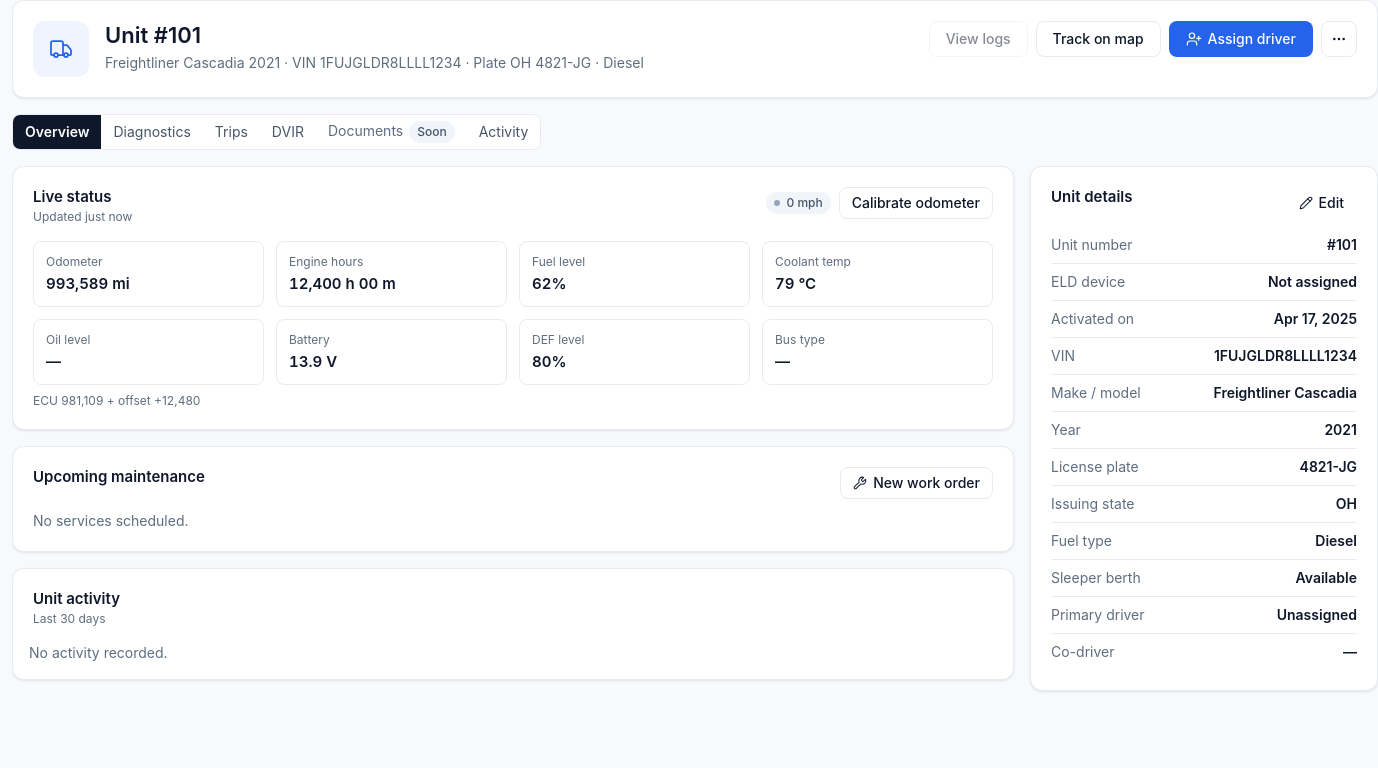
Test: W-04 Unit profile — active DTC badge (WB-105) › shows the count of uncleared DTCs once the Diagnostics tab has loaded them
This screenshot has width=1378, height=768.
Expected: the heading "Unit #101" is shown, [105, 21, 201, 49]
Expected: the text "active DTCs" is not shown
What coordinates should you click on to do the following:
click the button "Diagnostics"
I would click on:
 (152, 132)
Its box is [102, 115, 203, 149].
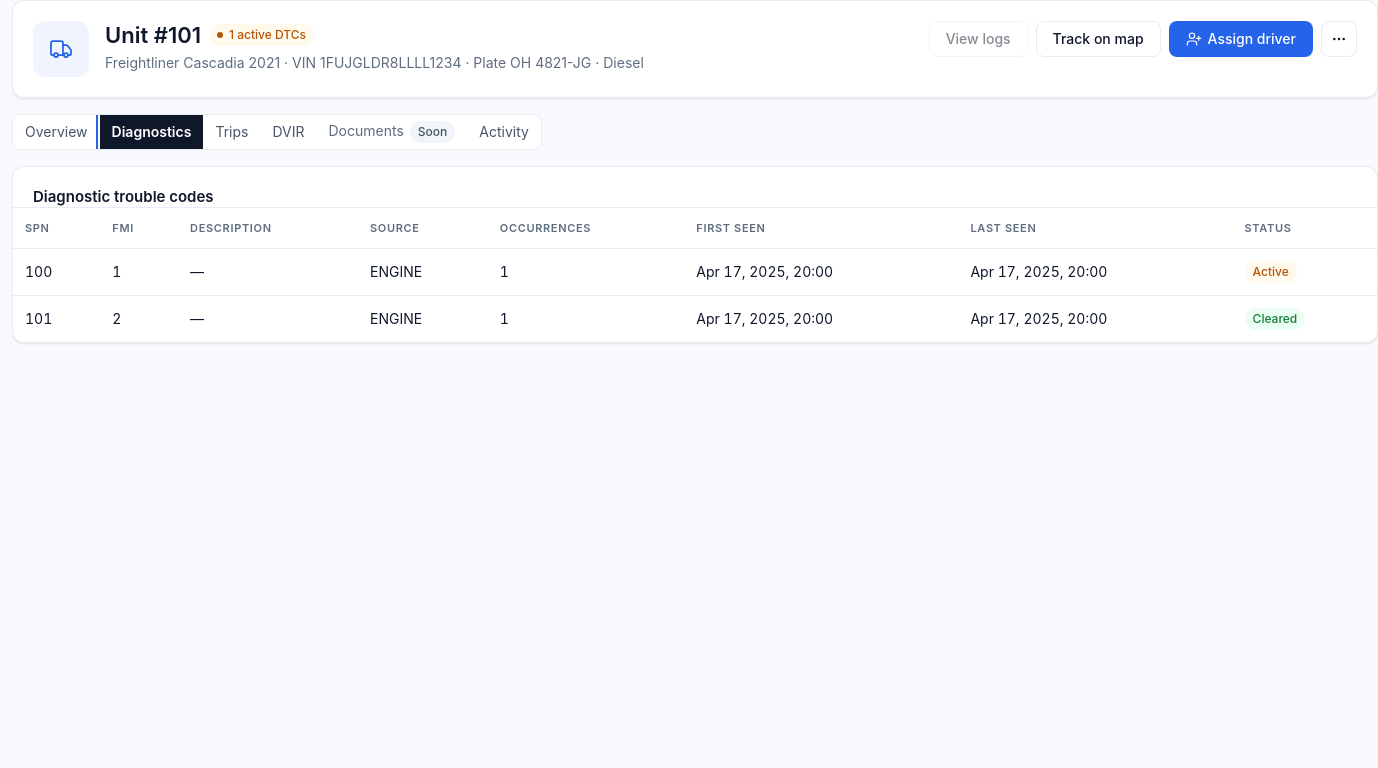
Expected: the text "1 active DTCs" is shown, [209, 24, 314, 46]
